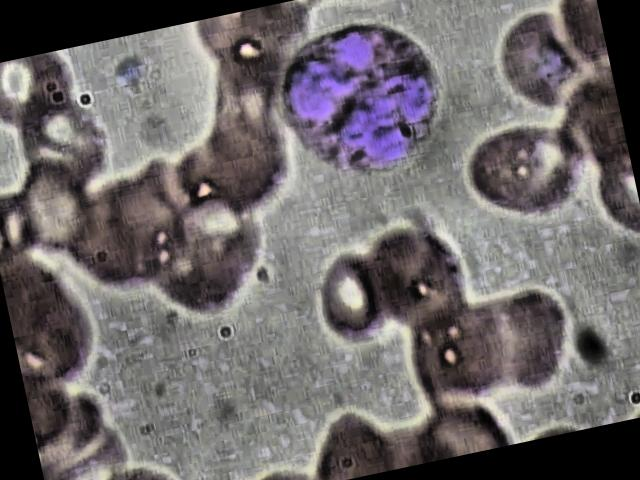Platelets: (112, 55, 148, 94)
RBC: (130, 169, 288, 332), (454, 110, 598, 230), (359, 213, 484, 343), (182, 110, 303, 220), (396, 304, 510, 418), (302, 246, 396, 352), (488, 10, 579, 119), (492, 287, 578, 398), (15, 151, 100, 261), (0, 48, 84, 142)
WBC: (252, 2, 476, 194)
